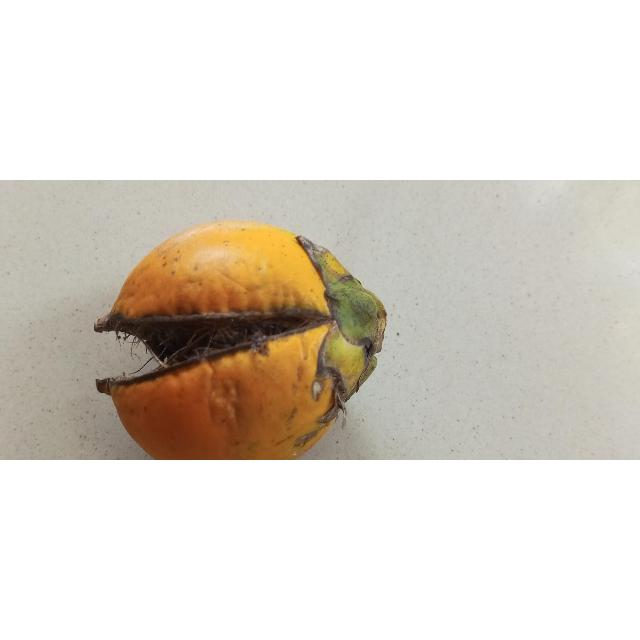damaged: (93, 221, 389, 461)
